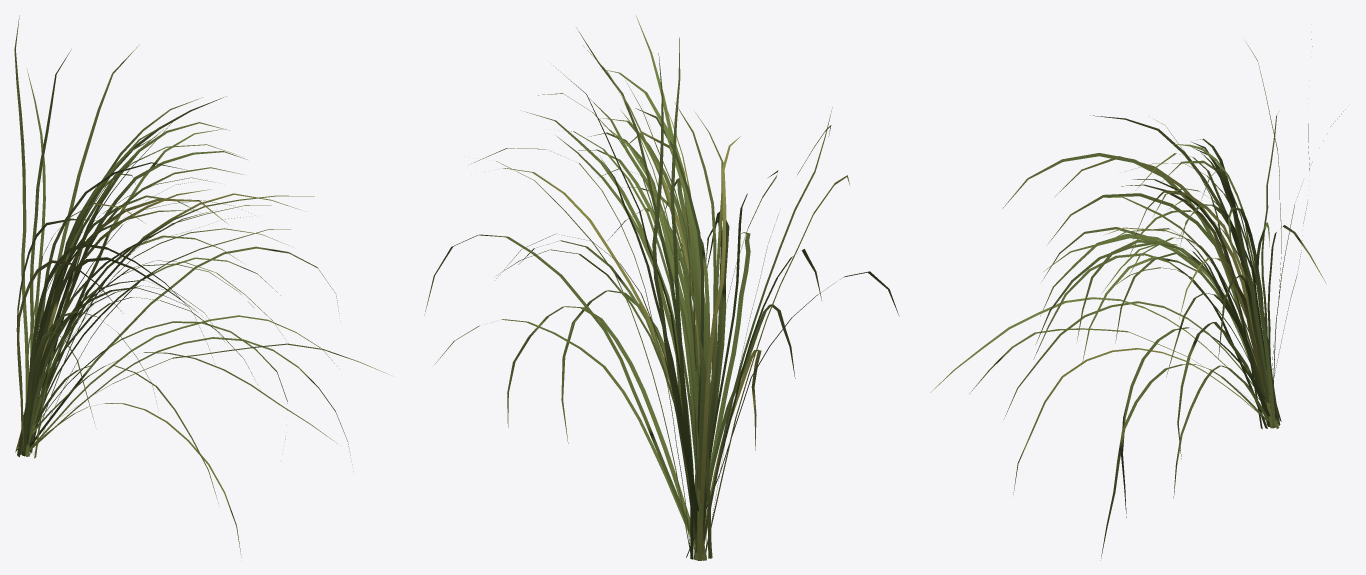
Rendered from capim_2.glb.
3 views of the same model, side by side, from view 1: azimuth 30°, elevation 25°; view 2: azimuth 150°, elevation 25°; view 3: azimuth 270°, elevation 25° (orthographic). The views are drawn at different scales.
Parts seen in each view (by area): view 1: capim_2; view 2: capim_2; view 3: capim_2.
Boxes of the visible parts, x1,y1,x2,y2 form: capim_2: [14, 15, 388, 555]; capim_2: [424, 16, 899, 560]; capim_2: [930, 39, 1345, 560].
Bounding box in the file's own units: 0.9946 × 1.36 × 1.16.
